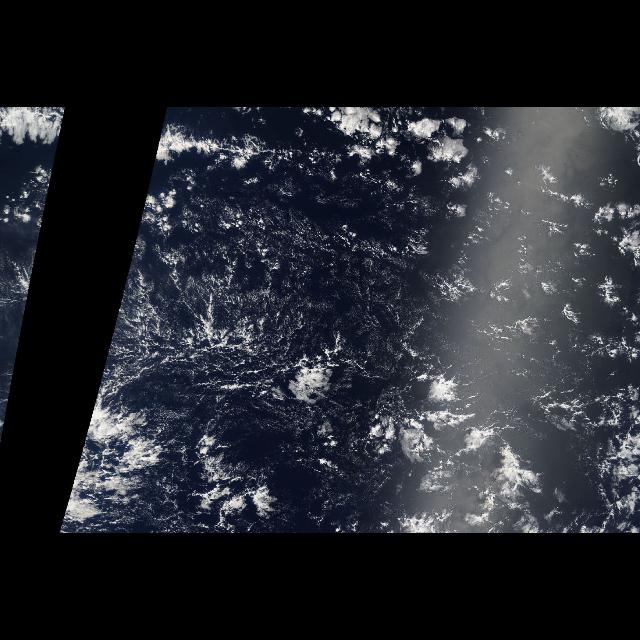Fish: (150, 110, 360, 178), (14, 110, 66, 178)
Flower: (186, 371, 558, 534), (298, 109, 508, 217)
Gravel: (98, 255, 440, 439)
Sugar: (89, 209, 438, 427)
